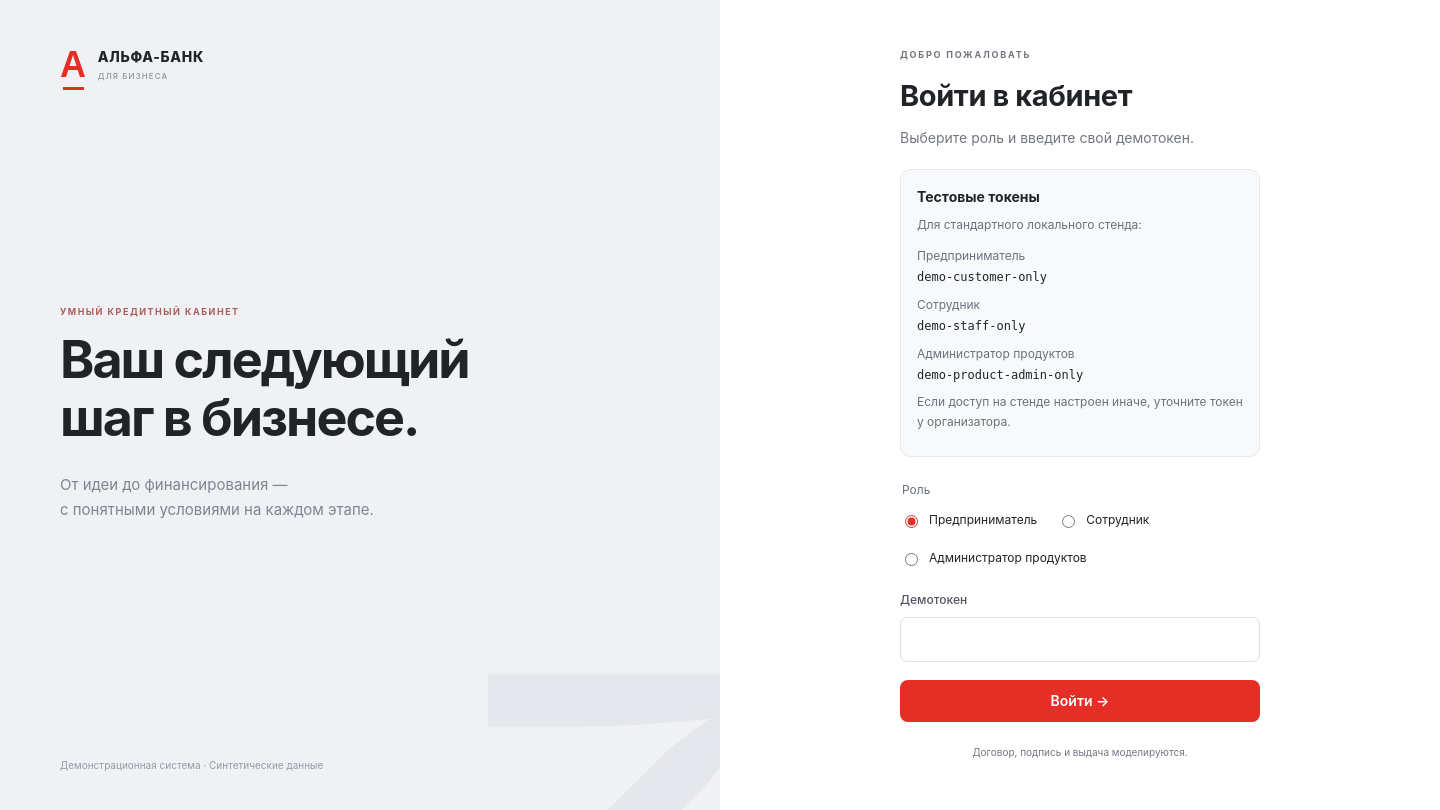
it: keeps the selected role and token fixed while access is being checked
Type "wrong" into the password field labelled "Демотокен". click: [1080, 639]
box: [900,617,1260,662]
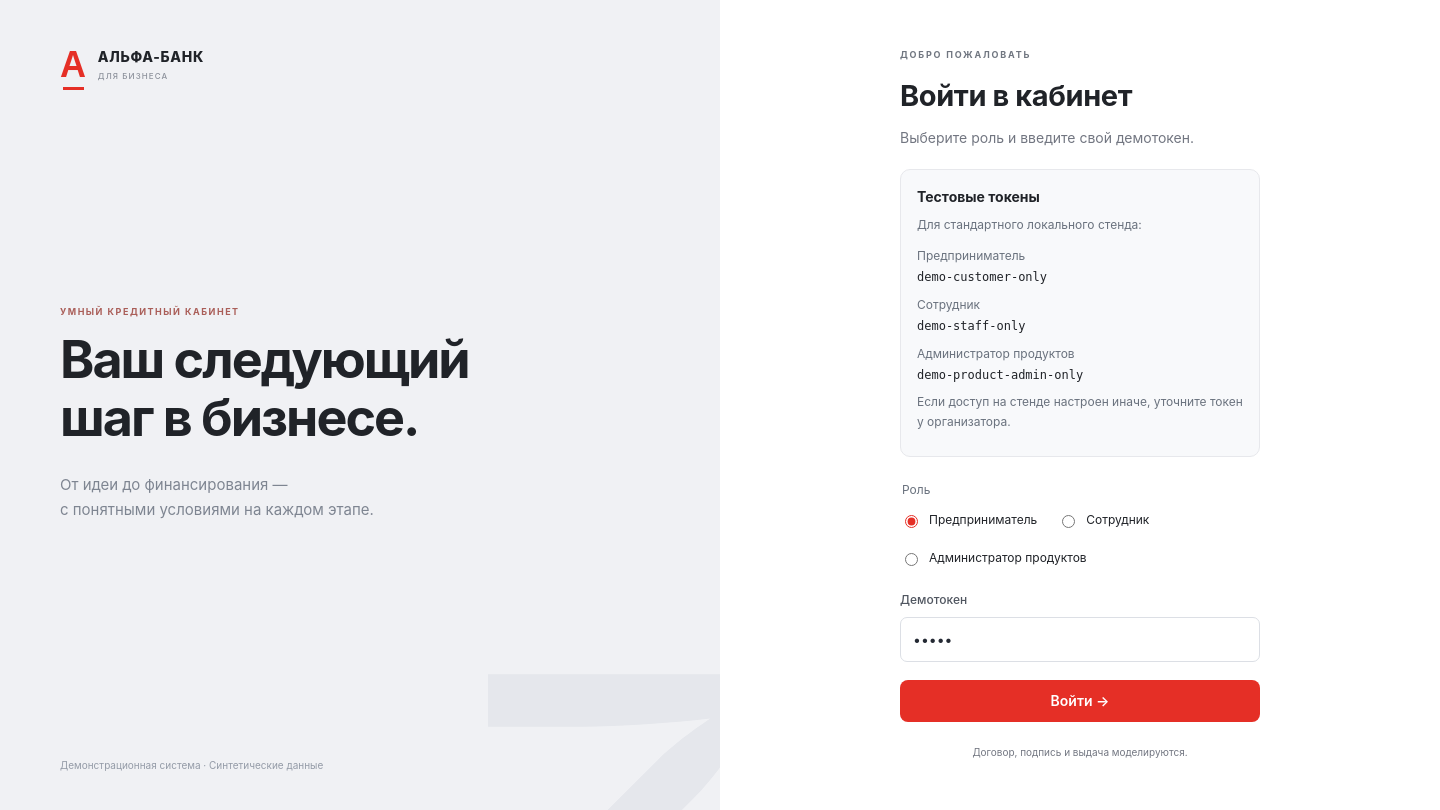
Click the button "Войти →". click: [1080, 701]
box: [900,680,1260,722]
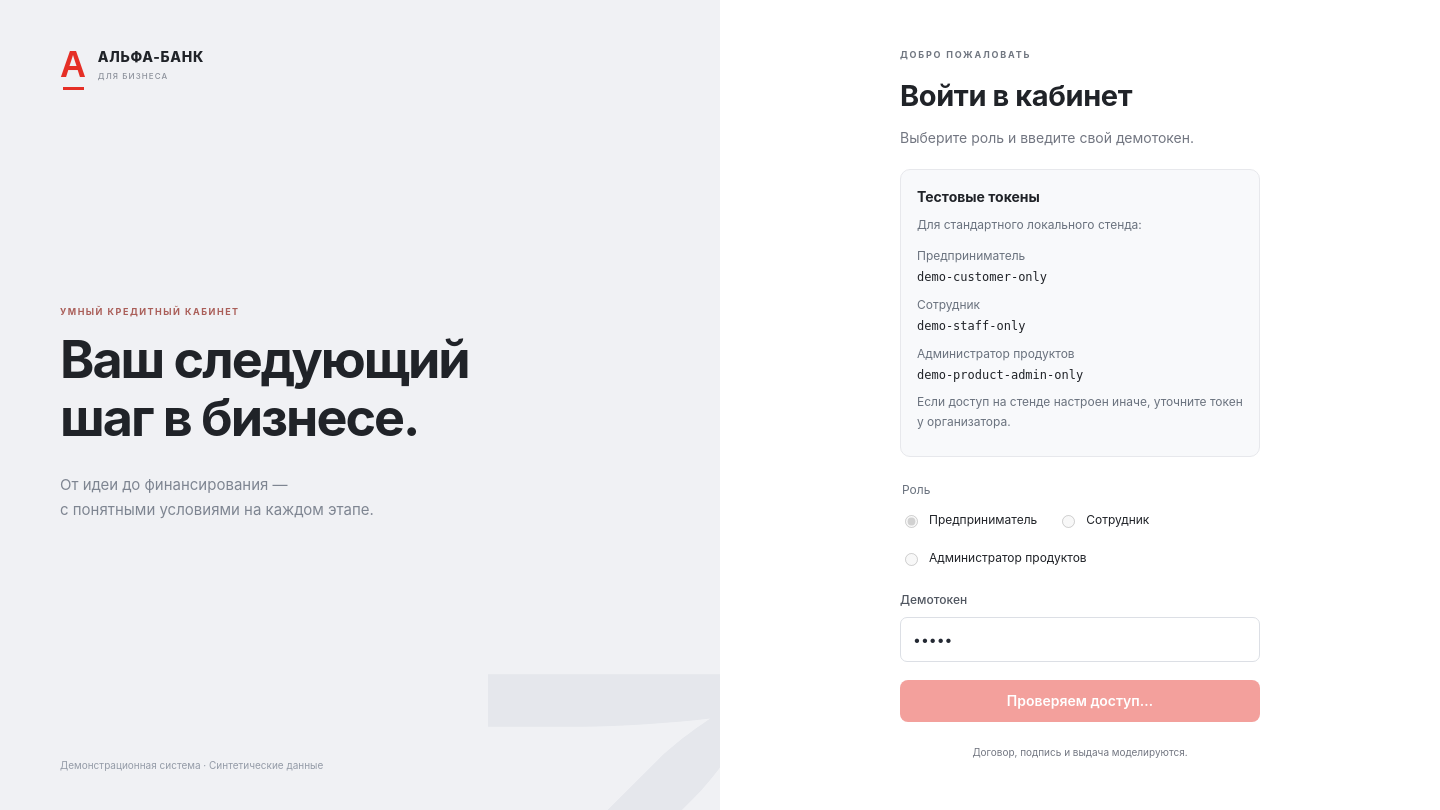
Expected: the password field labelled "Демотокен" is disabled, [900,617,1260,662]
Expected: the radio button labelled "Предприниматель" is disabled, [905,515,918,528]
Click the button "Проверяем доступ…". click: [1080, 701]
box: [900,680,1260,722]
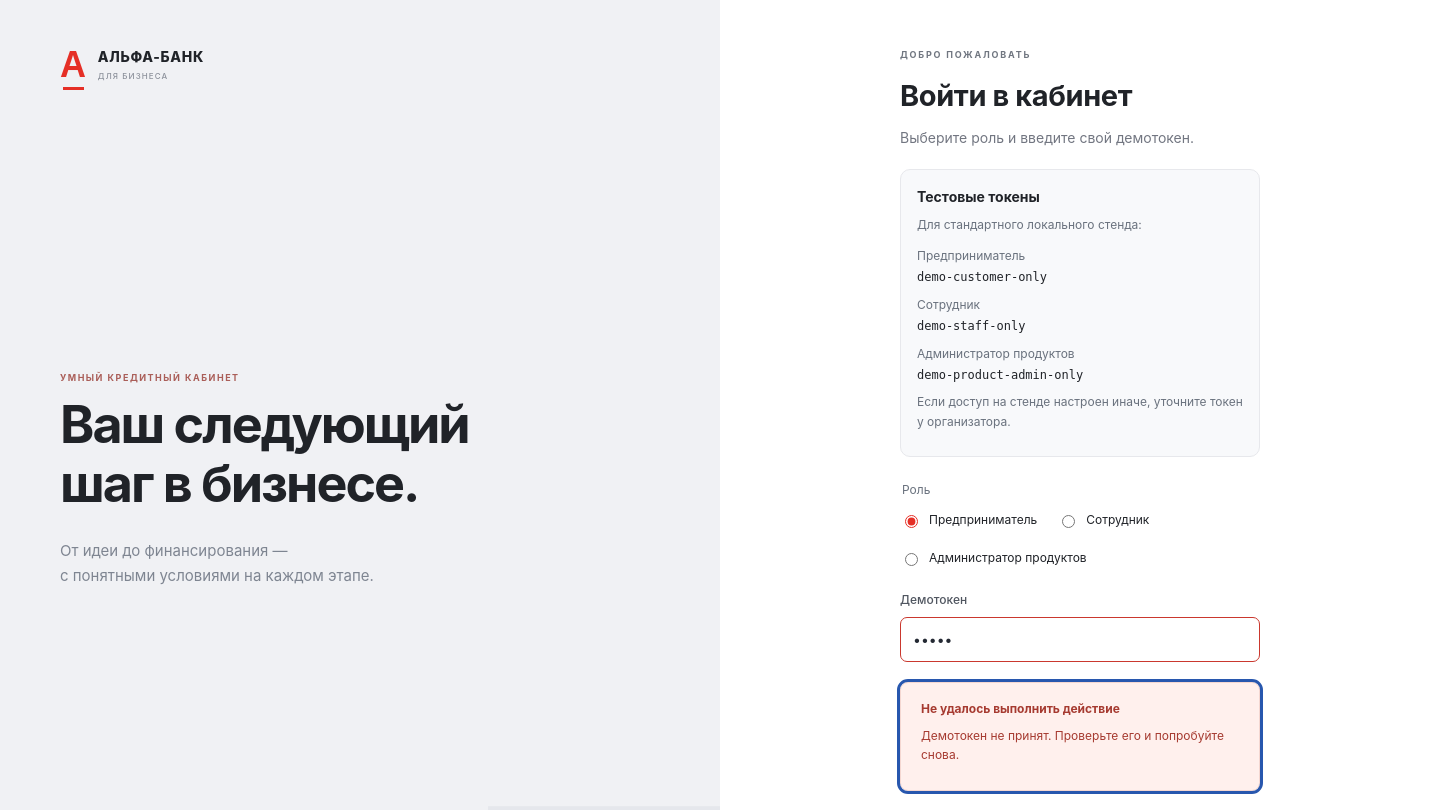
Expected: the password field labelled "Демотокен" is enabled, [900,617,1260,662]
Now the message is shown, box [900,682,1260,791]
